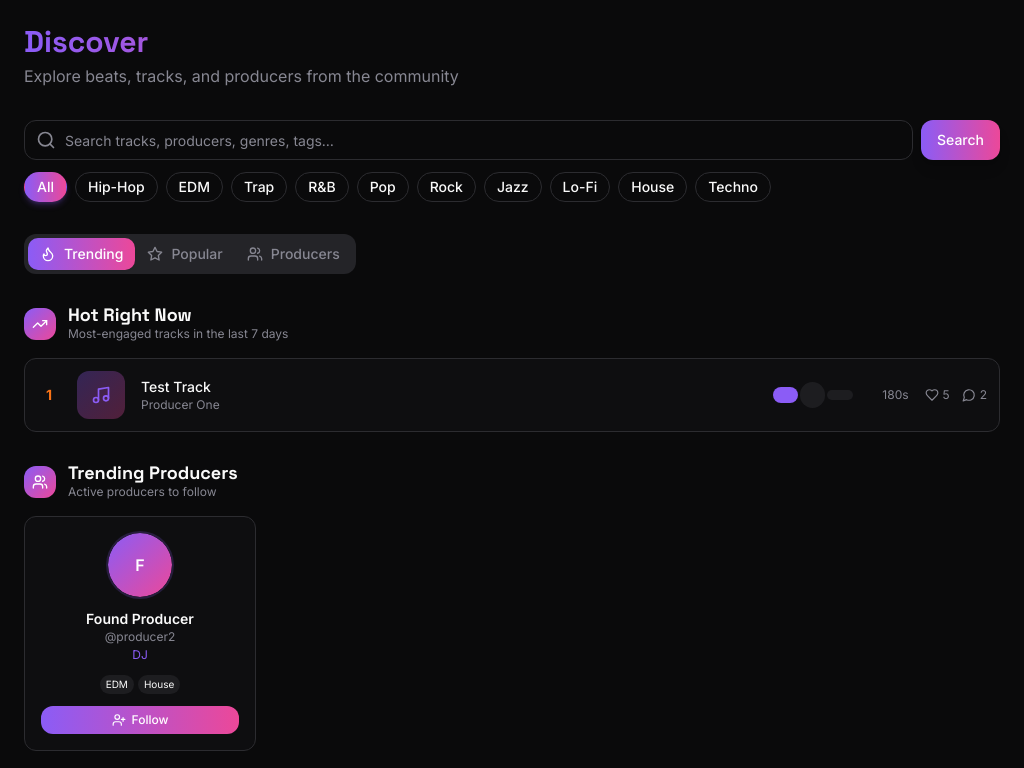
it: Discover page › shows producer results in search
This screenshot has width=1024, height=768.
Expected: the heading "Discover" is shown, [24,24,1000,60]
Type "found" into the field with placeholder "Search tracks, producers, genres, tags…". click: (468, 140)
box: [24,120,913,160]
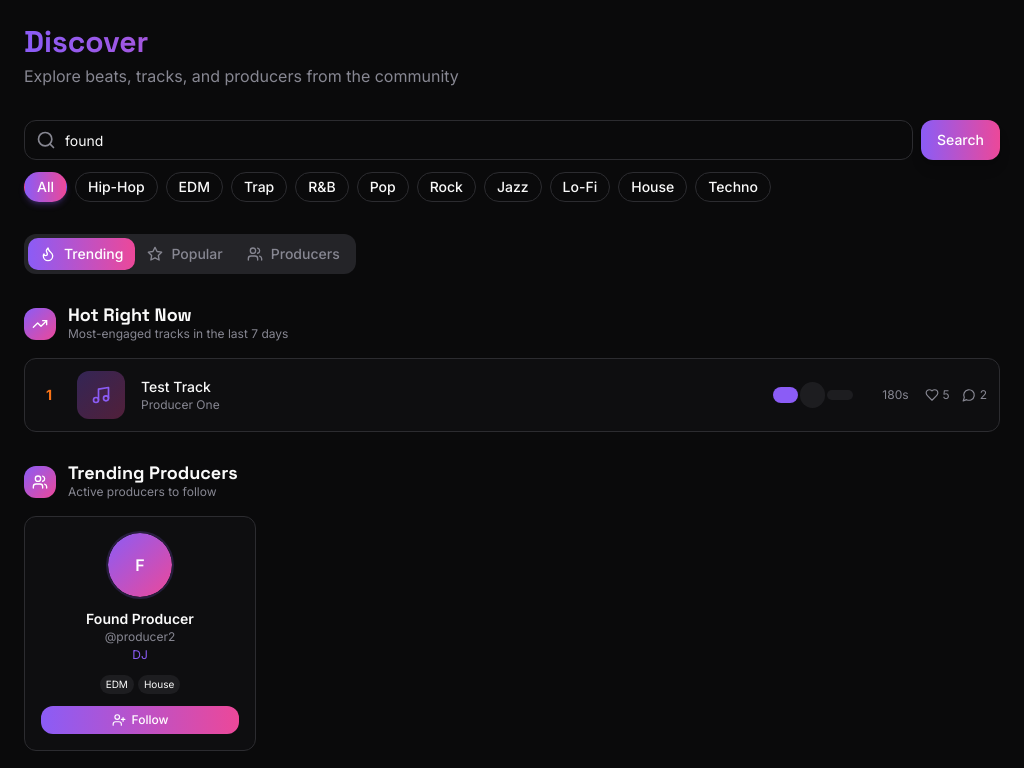
Submit the form with placeholder "search tracks", box [24,120,1000,160]
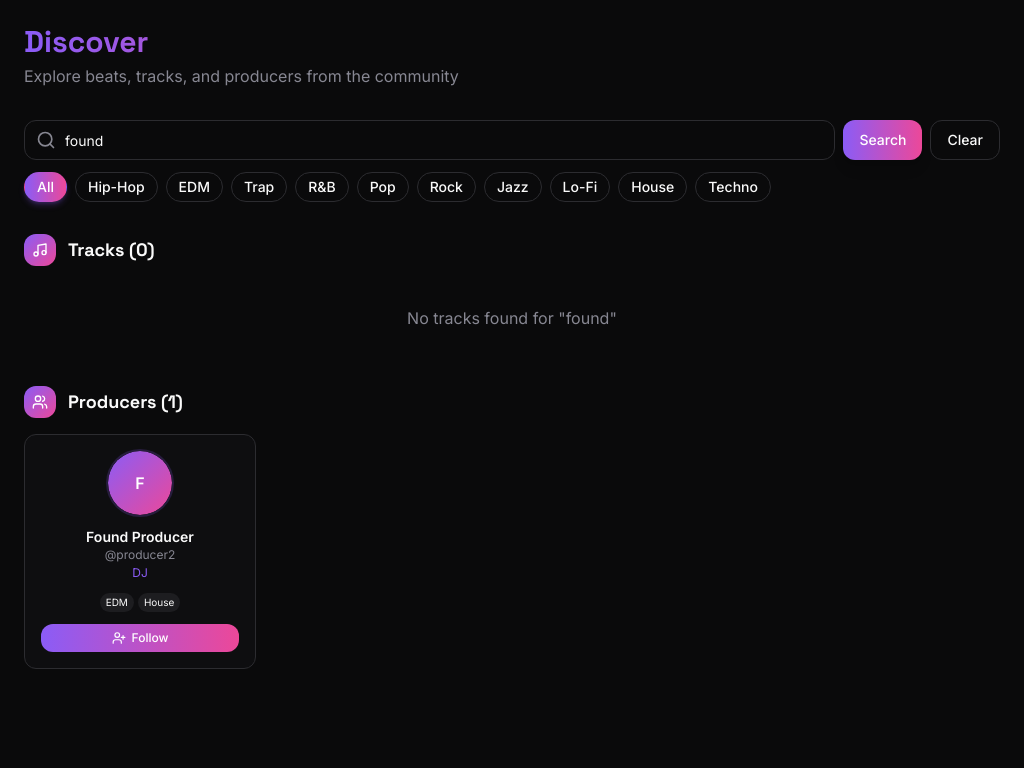
Now the heading "Producers (1)" is shown, box [68,393,183,411]
